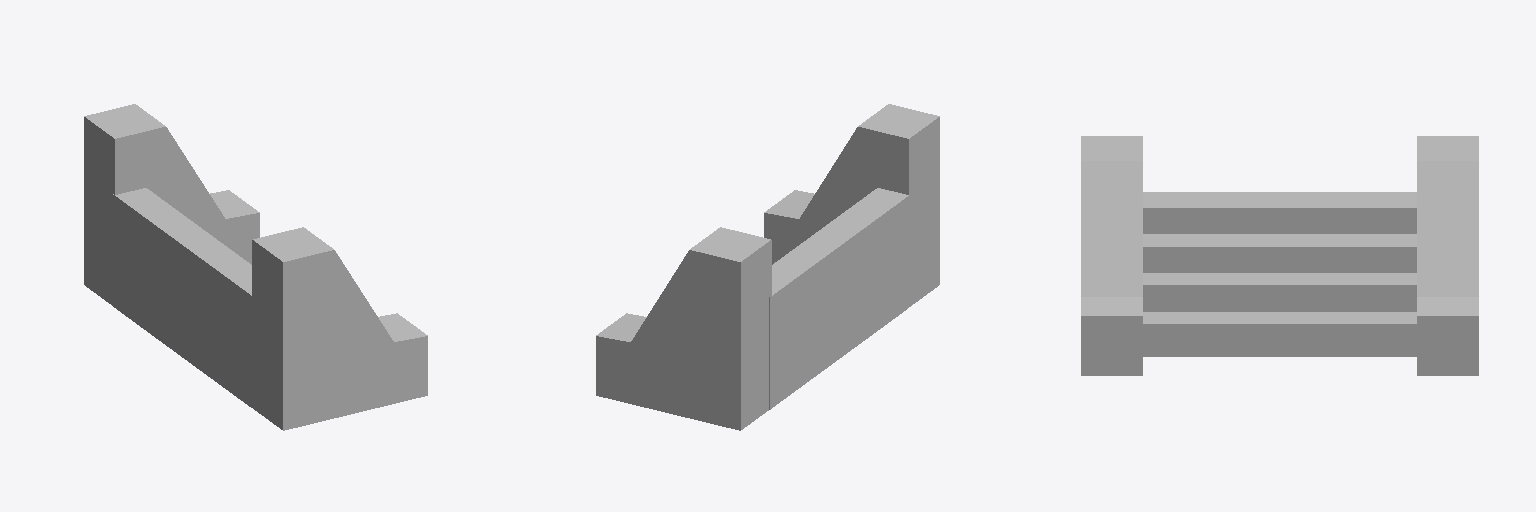
The model's file is stairs.obj.
3 views of the same model, side by side, from view 1: azimuth 30°, elevation 25°; view 2: azimuth 150°, elevation 25°; view 3: azimuth 270°, elevation 25° (orthographic).
Visible parts, largest first — view 1: Stairs; view 2: Stairs; view 3: Stairs.
Part boxes in pixels (bbox=[...]): Stairs: bbox=[84, 104, 427, 430]; Stairs: bbox=[596, 104, 939, 430]; Stairs: bbox=[1081, 136, 1478, 375].
Bounding box in the file's own units: 0.5414 × 0.6 × 1.29.